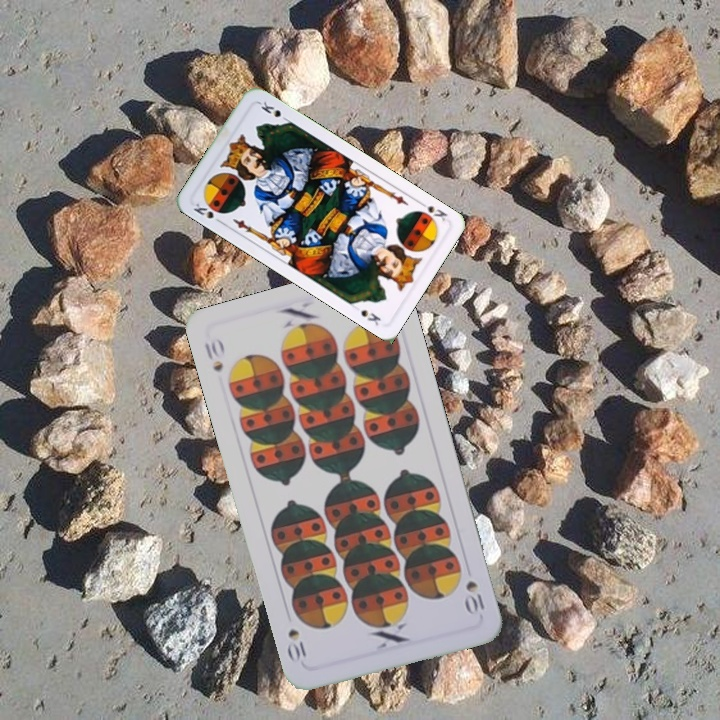S10: (461, 576, 487, 619), (200, 334, 226, 375)
SK: (412, 197, 450, 226), (189, 199, 226, 227)
